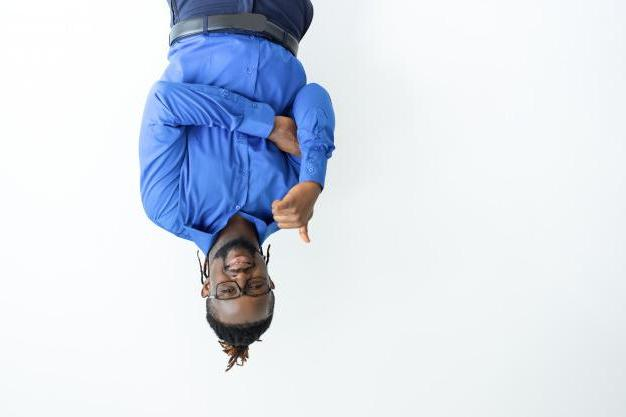thumbsdown: (272, 201, 311, 244)
